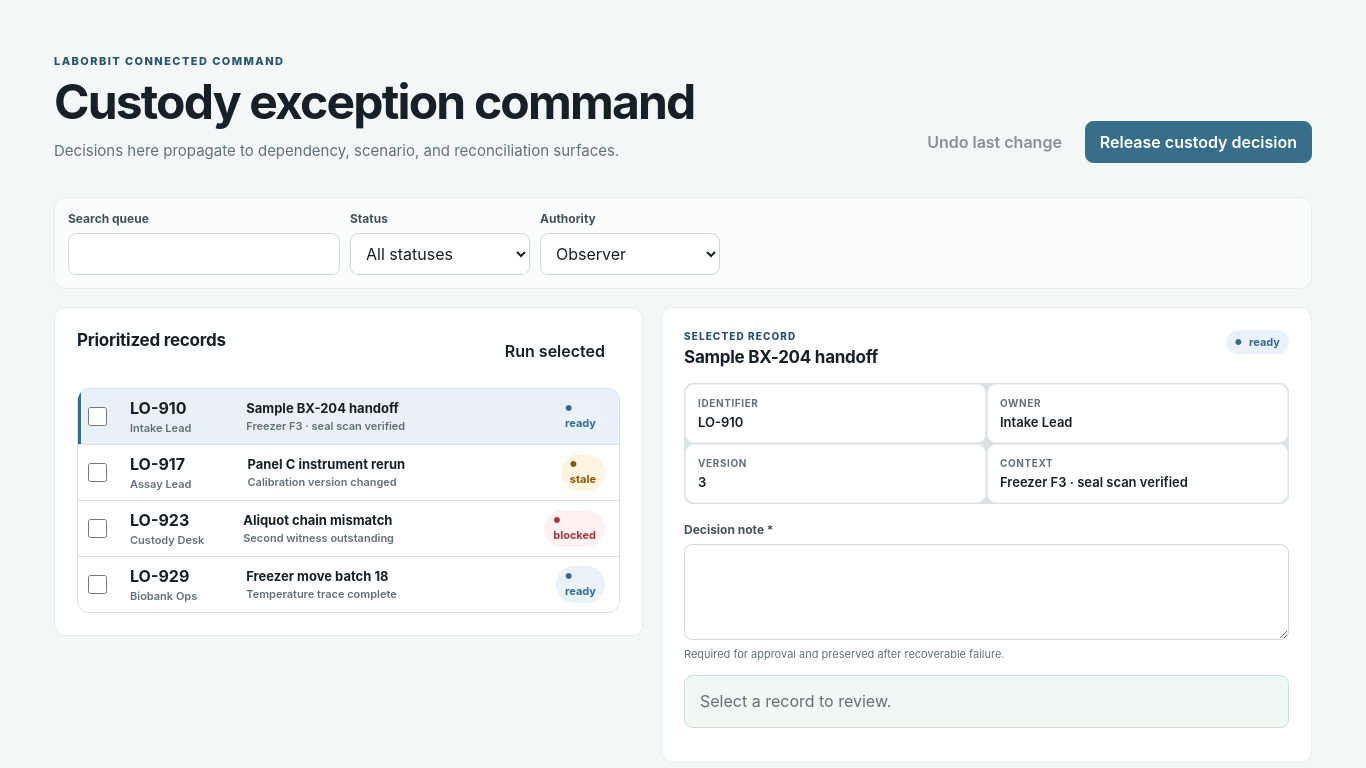
Test: Custody exception command › enforces authority and validates the explanation
The width and height of the screenshot is (1366, 768).
Click the button "Release custody decision": click(1198, 142) [1085, 121, 1312, 163]
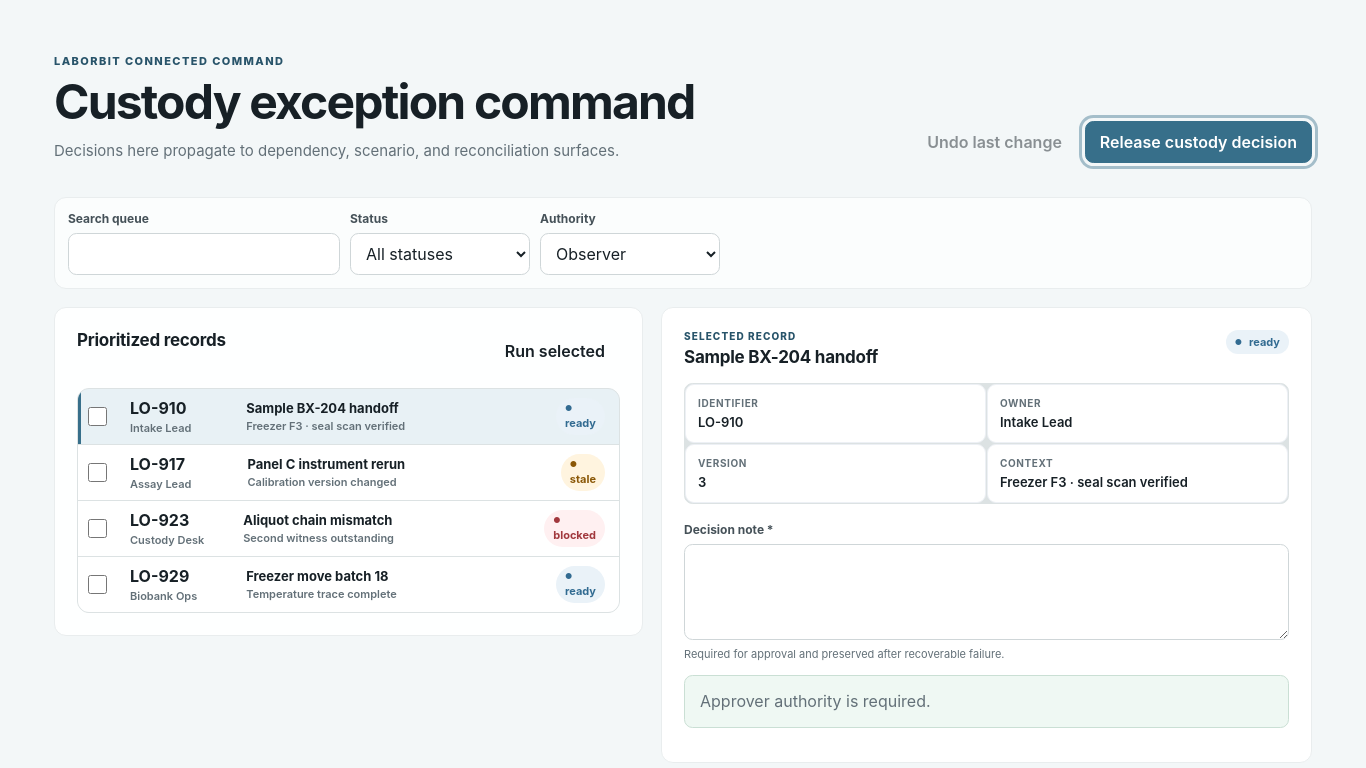
Expected: the message shows "Approver authority", [700, 691, 931, 711]
Select "Approver" in the dropdown labelled "Authority": (630, 254) [540, 233, 720, 275]
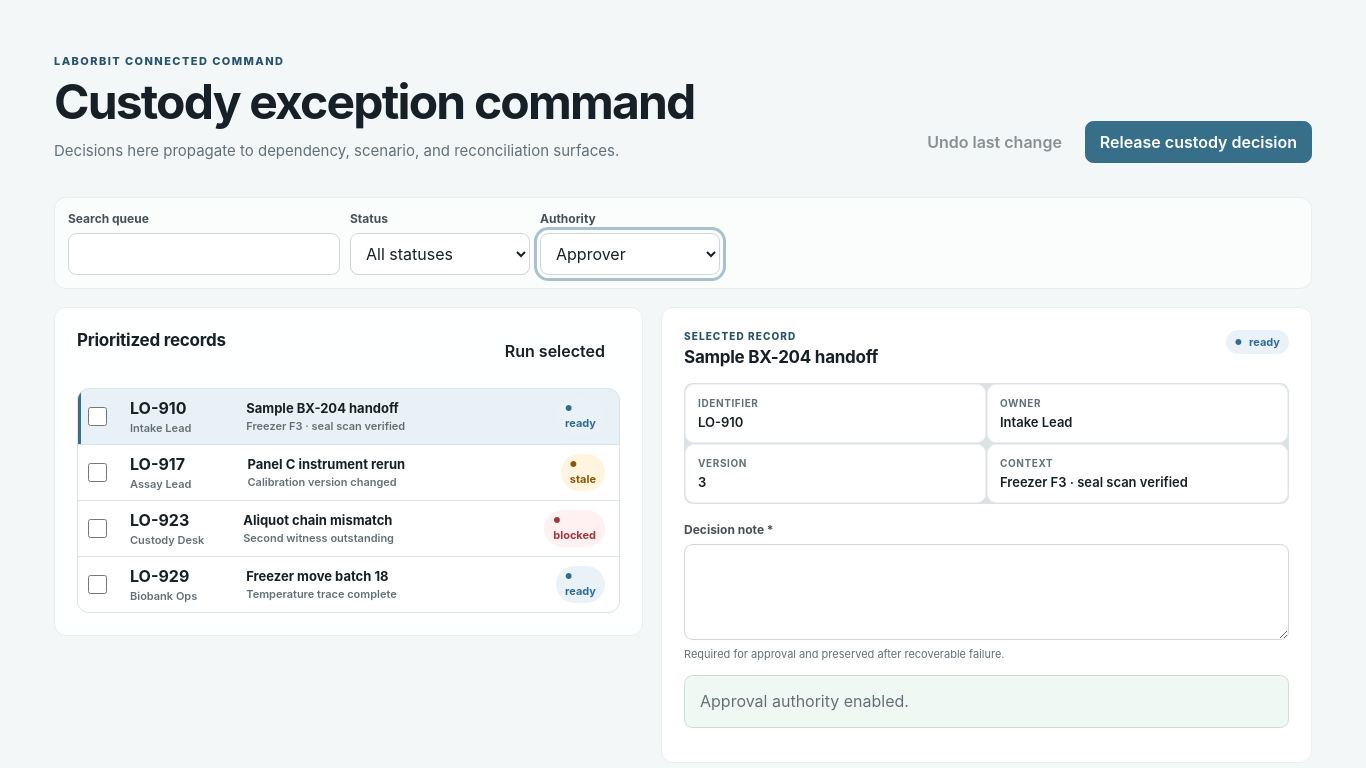
In the text box labelled "Decision note": (986, 592) [684, 544, 1289, 640], type "short"
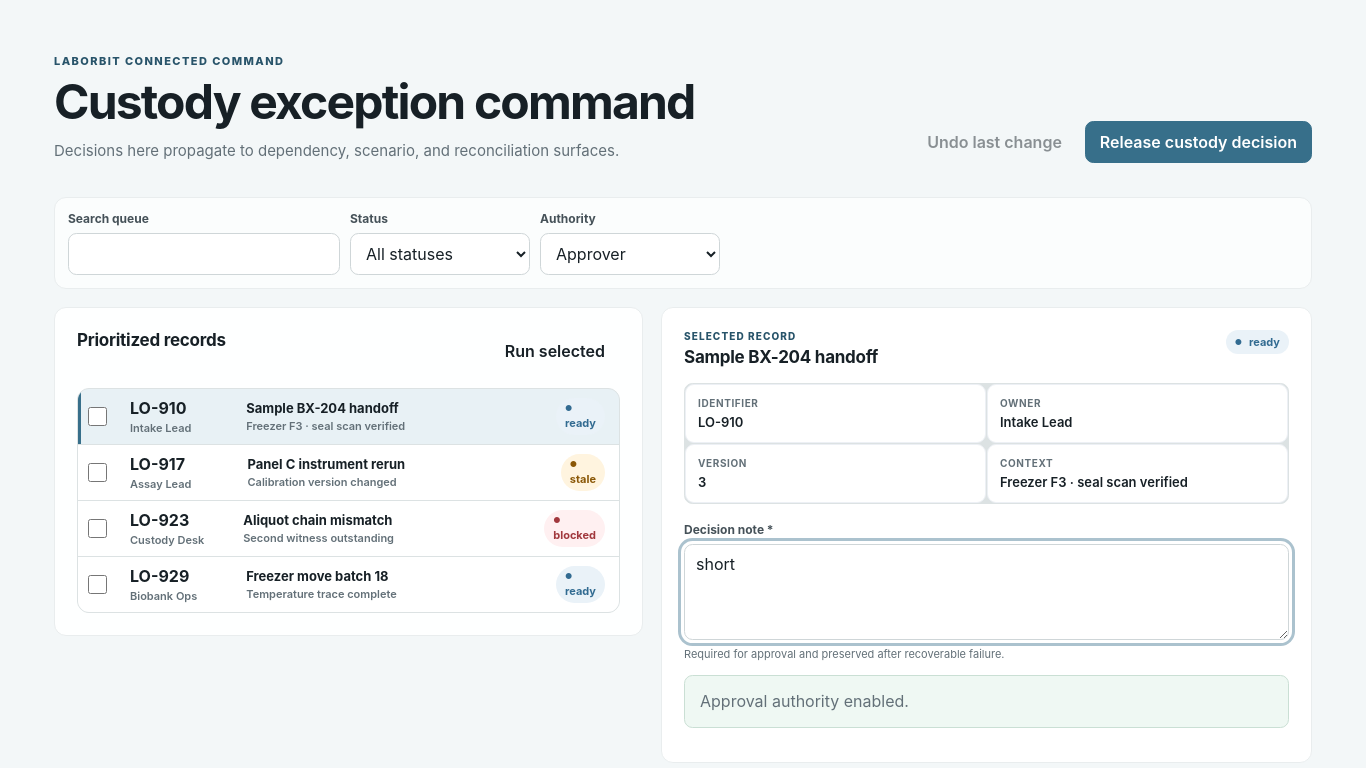
Click the button "Release custody decision": click(1198, 142) [1085, 121, 1312, 163]
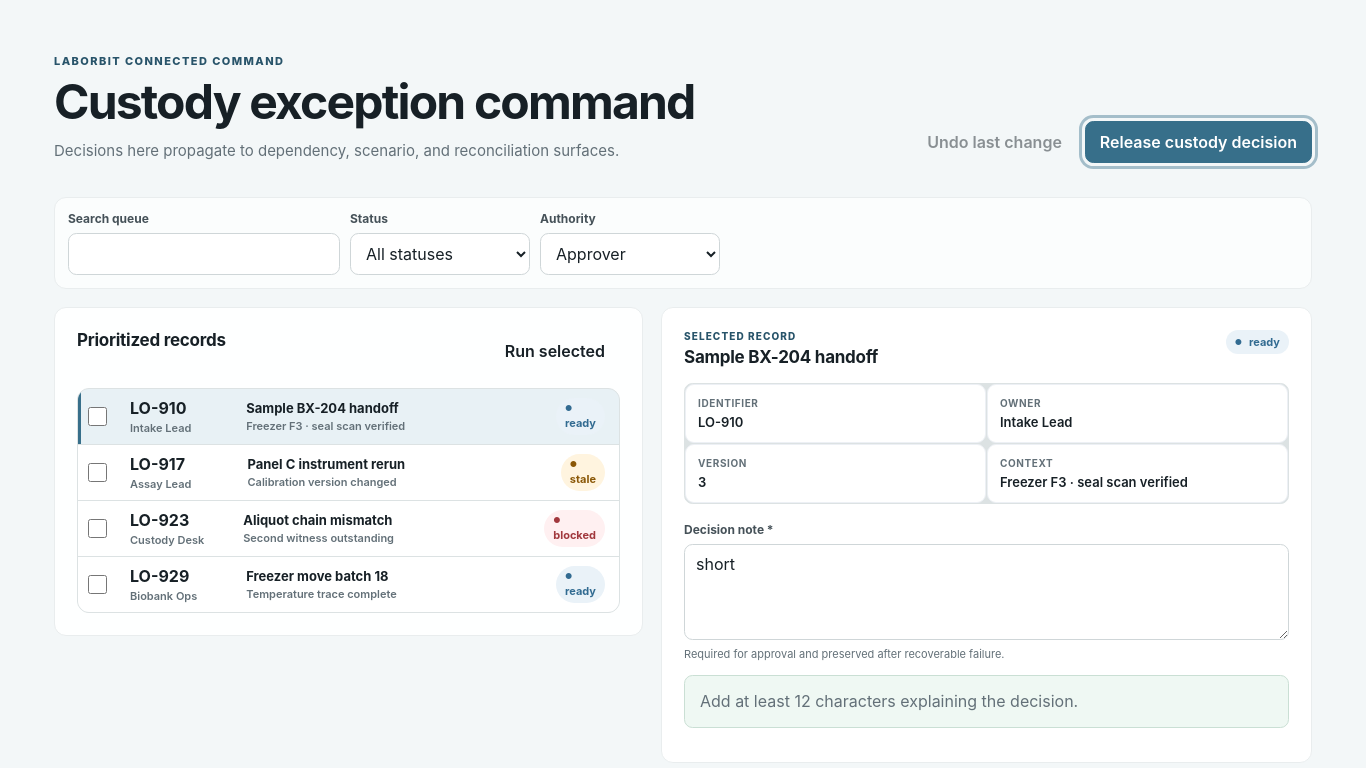
Expected: the message shows "12 characters", [700, 691, 1078, 711]
